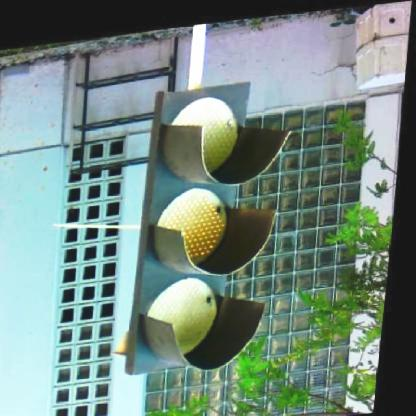Traffic Light -Yellow-: (130, 71, 288, 368)
